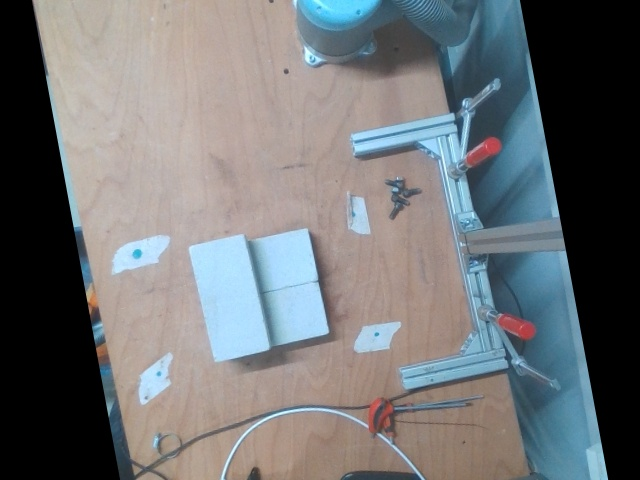brick: (188, 235, 270, 363)
